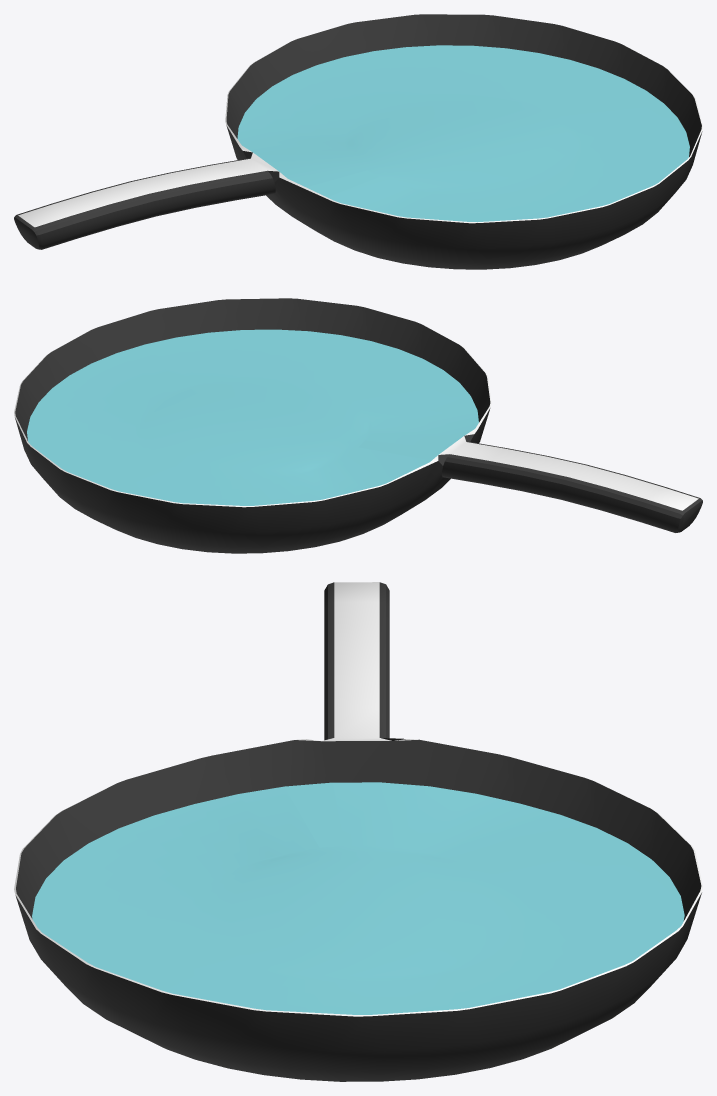
The model's file is Prefab_PanFull_Lily.fbx.
3 views of the same model, one above another, from view 1: azimuth 30°, elevation 25°; view 2: azimuth 150°, elevation 25°; view 3: azimuth 270°, elevation 25° (orthographic). The views are drawn at different scales.
Parts seen in each view (by area): view 1: Cube; view 2: Cube; view 3: Cube.
Part boxes in pixels (x1,y1,x2,y2): Cube: (14, 14, 702, 269); Cube: (14, 298, 702, 553); Cube: (14, 582, 702, 1081).
Size of the model in its own units: 34 by 5 by 23.
